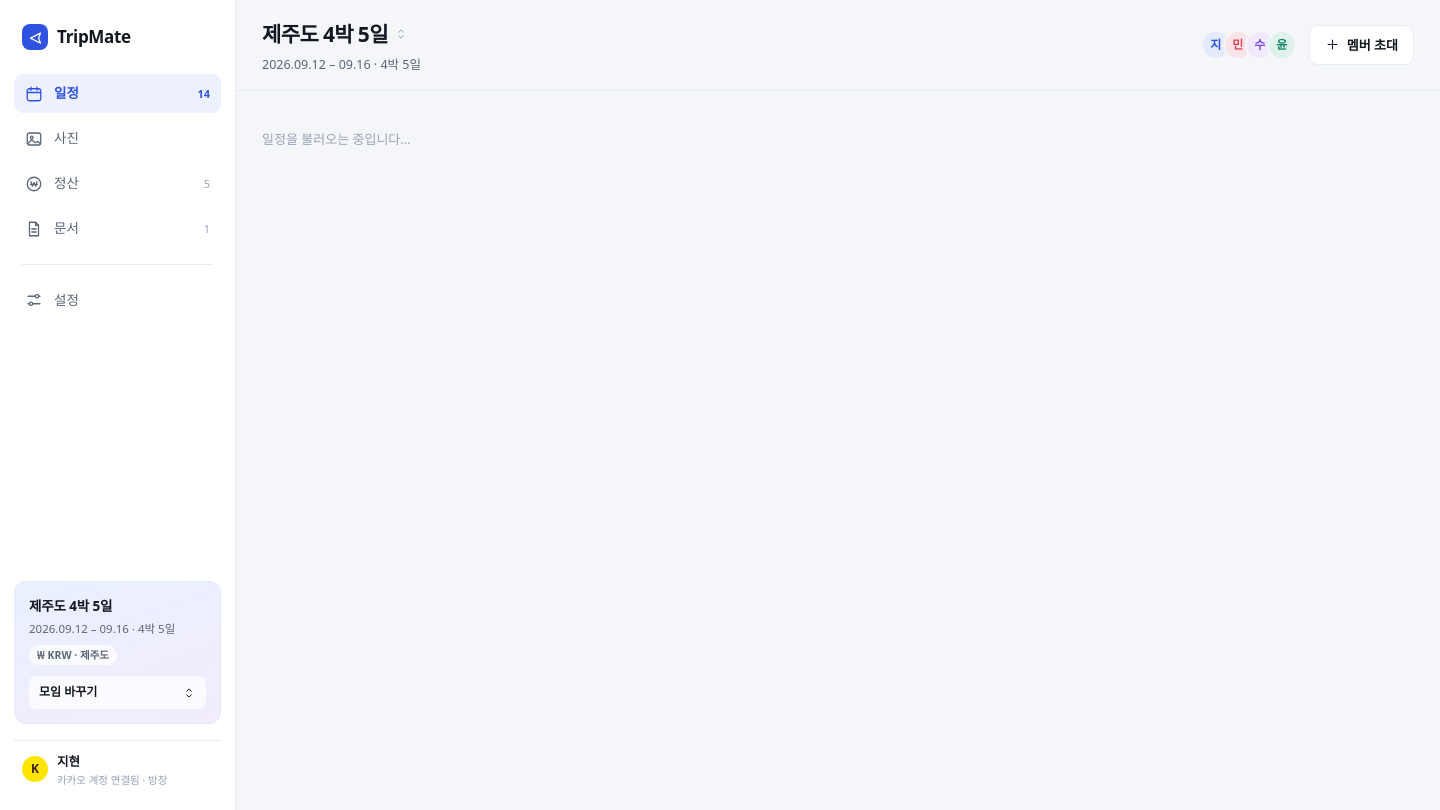
Test: 셸 › 헤더의 모임 제목을 눌러도 같은 스위처가 열린다 (모바일에는 이 입구뿐이다)
Expected: the heading "제주도 4박 5일" is shown, x1=262 y1=18 x2=388 y2=50
Click the button with class "gswitch" at (339, 34), box x1=262 y1=16 x2=416 y2=52
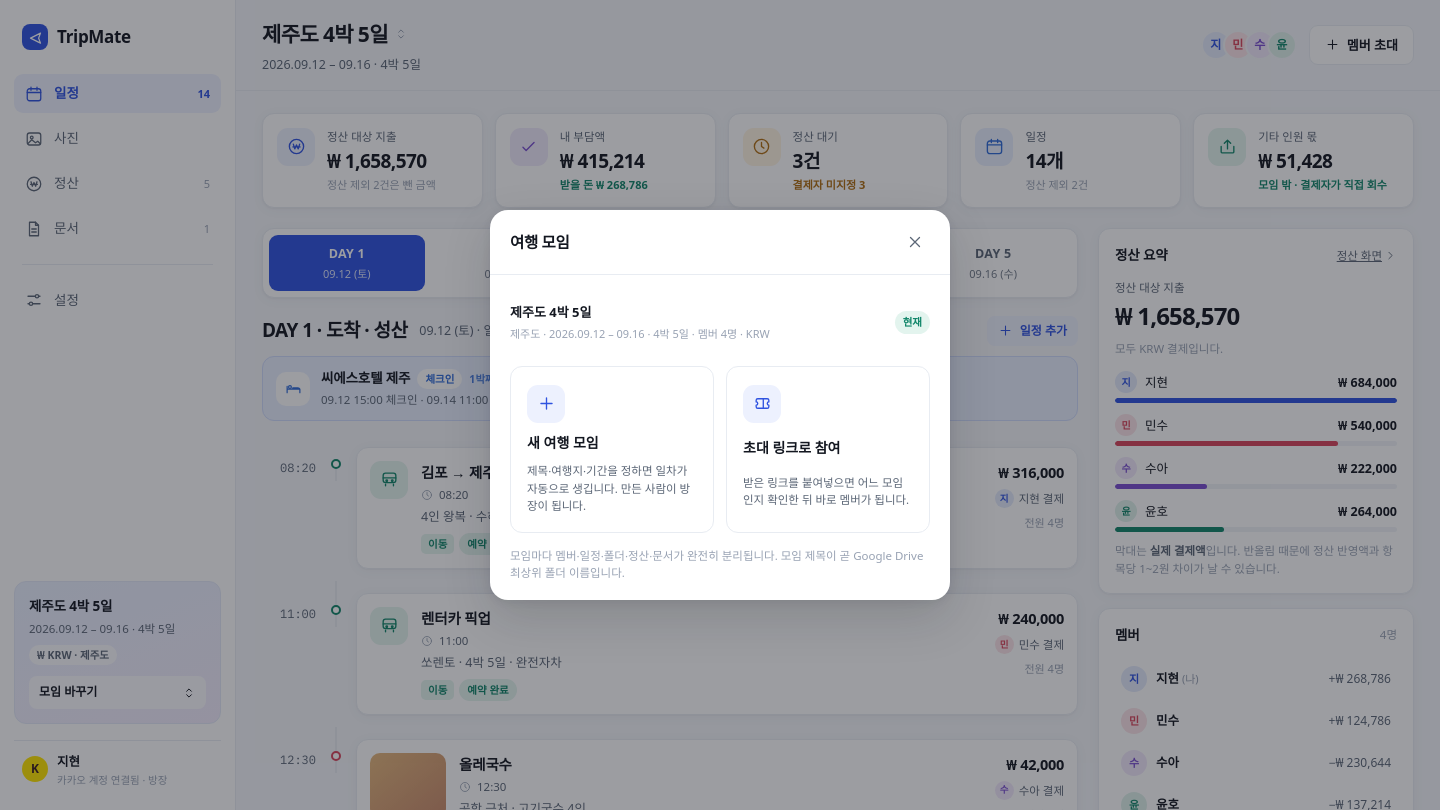
Expected: the heading "여행 모임" is shown, x1=510 y1=230 x2=570 y2=254
Expected: the text "현재" is shown, x1=895 y1=311 x2=930 y2=334
